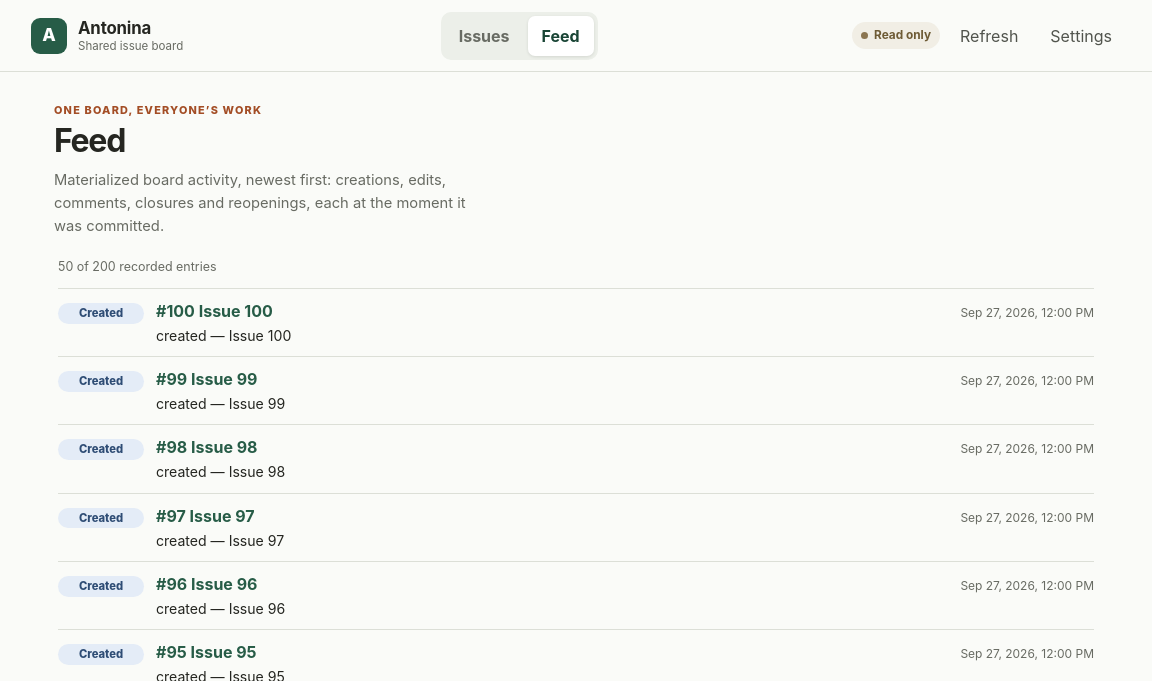
Test: the feed tab, mounted, paging by number › starts the feed at page 1 when the tab is opened, whatever page it held
The image size is (1152, 681).
Click the button "issues". click: (484, 36)
box: [459,26,510,46]
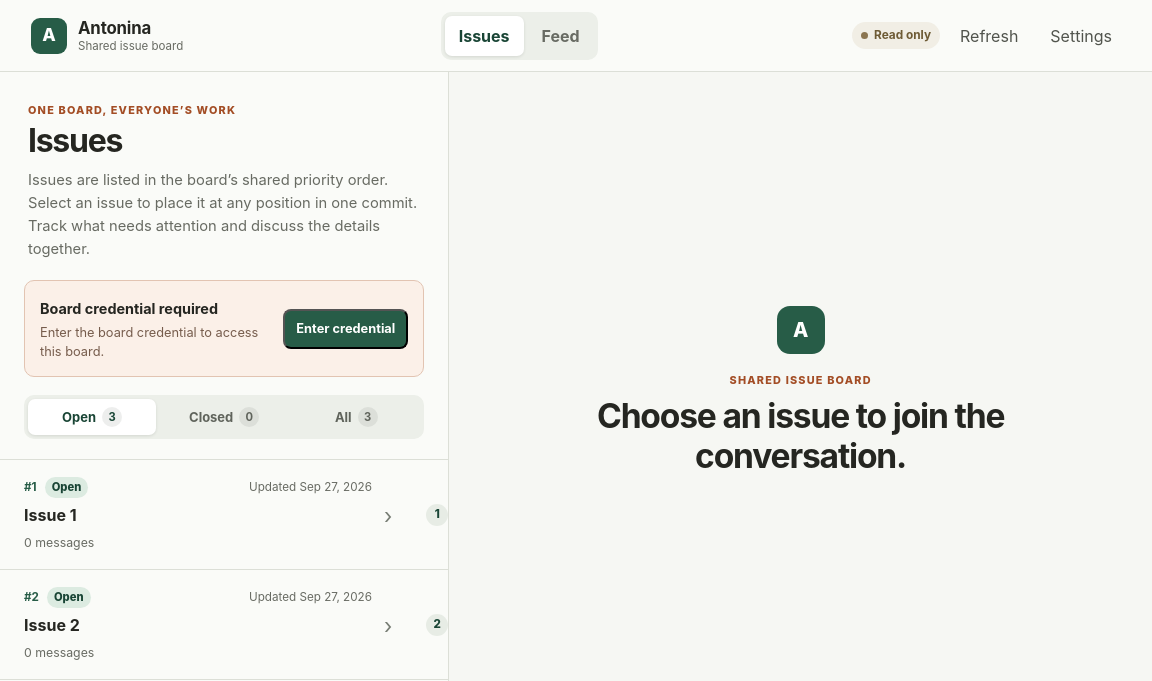
Click the button "feed". click: (561, 36)
box: [542,26,580,46]
(page scrolled)
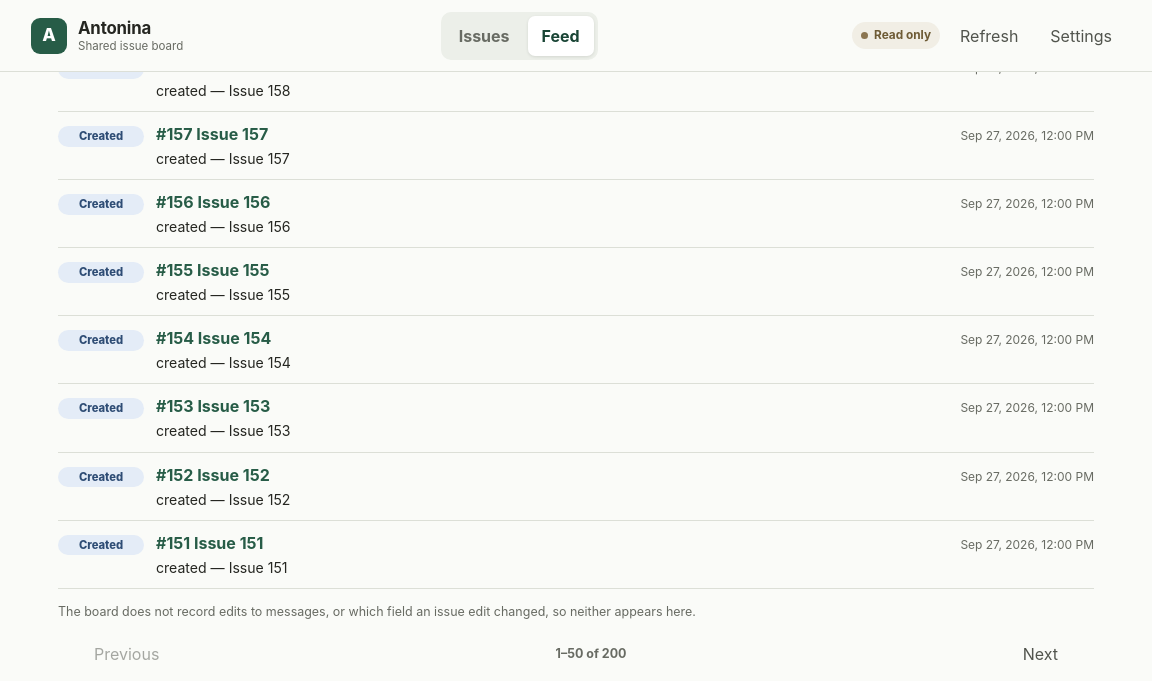
Expected: the message "1–50 of 200" is shown, [556,645,626,664]
